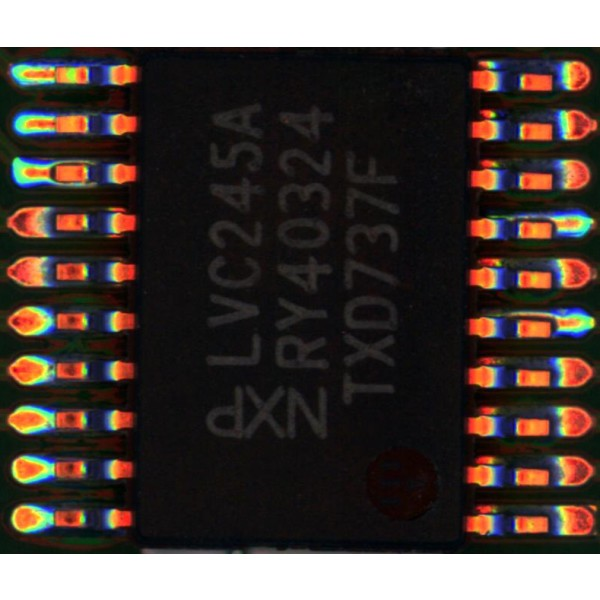Bad_podu: (37, 68, 65, 80), (37, 118, 67, 129)
Bad_qiaojiao: (489, 309, 553, 317), (489, 212, 553, 220), (58, 182, 98, 188), (56, 159, 95, 165)
